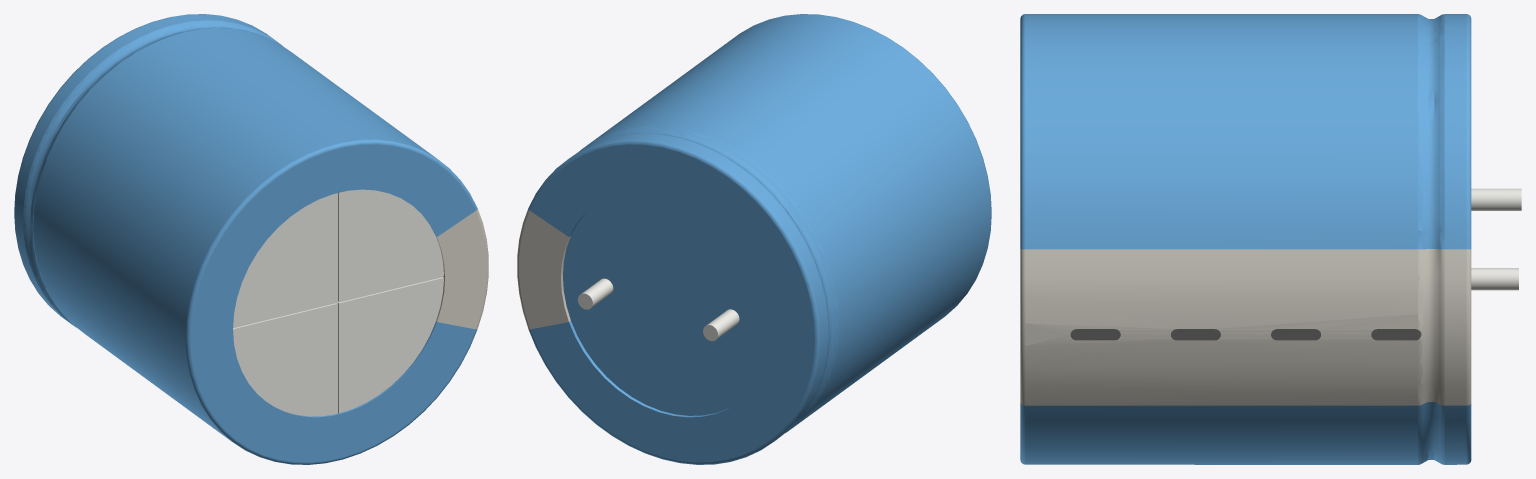
The model's file is CP_Radial_D18.0mm_P7.50mm.glb.
The picture shows the model from 3 angles, left to right: view 1: azimuth 30°, elevation 25°; view 2: azimuth 150°, elevation 25°; view 3: azimuth 270°, elevation 25°; orthographic projection. The views are drawn at different scales.
Visible parts, largest first — view 1: Shape_IndexedFaceSet.019, Shape_IndexedFaceSet.028, Shape_IndexedFaceSet.038, Shape_IndexedFaceSet.032, Shape_IndexedFaceSet.034, Shape_IndexedFaceSet.041, Shape_IndexedFaceSet.029, Shape_IndexedFaceSet.011, Shape_IndexedFaceSet.022, Shape_IndexedFaceSet.015, Shape_IndexedFaceSet.013, Shape_IndexedFaceSet.017 (+1 smaller); view 2: Shape_IndexedFaceSet.019, Shape_IndexedFaceSet.002, Shape_IndexedFaceSet.006, Shape_IndexedFaceSet.007, Shape_IndexedFaceSet.011, Shape_IndexedFaceSet.009, Shape_IndexedFaceSet.015, Shape_IndexedFaceSet.017, Shape_IndexedFaceSet.013, Shape_IndexedFaceSet.003, Shape_IndexedFaceSet.005; view 3: Shape_IndexedFaceSet.019, Shape_IndexedFaceSet.020, Shape_IndexedFaceSet.011, Shape_IndexedFaceSet.015, Shape_IndexedFaceSet.012, Shape_IndexedFaceSet.016, Shape_IndexedFaceSet.013, Shape_IndexedFaceSet.022, Shape_IndexedFaceSet.009, Shape_IndexedFaceSet.017, Shape_IndexedFaceSet.005, Shape_IndexedFaceSet.001 (+8 smaller).
Boxes of the visible parts, x1=… form: Shape_IndexedFaceSet.019: x1=33, y1=28, x2=435, y2=439; Shape_IndexedFaceSet.028: x1=191, y1=144, x2=475, y2=462; Shape_IndexedFaceSet.038: x1=233, y1=304, x2=337, y2=416; Shape_IndexedFaceSet.032: x1=339, y1=278, x2=443, y2=413; Shape_IndexedFaceSet.034: x1=339, y1=189, x2=443, y2=301; Shape_IndexedFaceSet.041: x1=233, y1=193, x2=337, y2=327; Shape_IndexedFaceSet.029: x1=437, y1=211, x2=486, y2=329; Shape_IndexedFaceSet.011: x1=14, y1=14, x2=276, y2=324; Shape_IndexedFaceSet.022: x1=185, y1=139, x2=477, y2=464; Shape_IndexedFaceSet.015: x1=26, y1=23, x2=265, y2=316; Shape_IndexedFaceSet.013: x1=23, y1=20, x2=282, y2=327; Shape_IndexedFaceSet.017: x1=32, y1=27, x2=266, y2=322; Shape_IndexedFaceSet.019: x1=585, y1=14, x2=991, y2=428; Shape_IndexedFaceSet.002: x1=563, y1=189, x2=772, y2=415; Shape_IndexedFaceSet.006: x1=530, y1=144, x2=814, y2=462; Shape_IndexedFaceSet.007: x1=519, y1=211, x2=568, y2=329; Shape_IndexedFaceSet.011: x1=570, y1=133, x2=828, y2=439; Shape_IndexedFaceSet.009: x1=528, y1=139, x2=820, y2=464; Shape_IndexedFaceSet.015: x1=595, y1=128, x2=835, y2=421; Shape_IndexedFaceSet.017: x1=579, y1=125, x2=838, y2=432; Shape_IndexedFaceSet.013: x1=591, y1=133, x2=829, y2=424; Shape_IndexedFaceSet.003: x1=569, y1=205, x2=738, y2=417; Shape_IndexedFaceSet.005: x1=707, y1=309, x2=739, y2=339; Shape_IndexedFaceSet.019: x1=1025, y1=14, x2=1417, y2=464; Shape_IndexedFaceSet.020: x1=1025, y1=249, x2=1417, y2=405; Shape_IndexedFaceSet.011: x1=1444, y1=14, x2=1466, y2=464; Shape_IndexedFaceSet.015: x1=1423, y1=16, x2=1439, y2=462; Shape_IndexedFaceSet.012: x1=1444, y1=249, x2=1466, y2=405; Shape_IndexedFaceSet.016: x1=1423, y1=249, x2=1439, y2=403; Shape_IndexedFaceSet.013: x1=1439, y1=14, x2=1444, y2=464; Shape_IndexedFaceSet.022: x1=1020, y1=14, x2=1025, y2=464; Shape_IndexedFaceSet.009: x1=1466, y1=14, x2=1471, y2=464; Shape_IndexedFaceSet.017: x1=1418, y1=14, x2=1422, y2=464; Shape_IndexedFaceSet.005: x1=1471, y1=188, x2=1521, y2=210; Shape_IndexedFaceSet.001: x1=1471, y1=268, x2=1518, y2=290.
Bounding box in the file's own units: 7.09 × 7.09 × 7.87.
